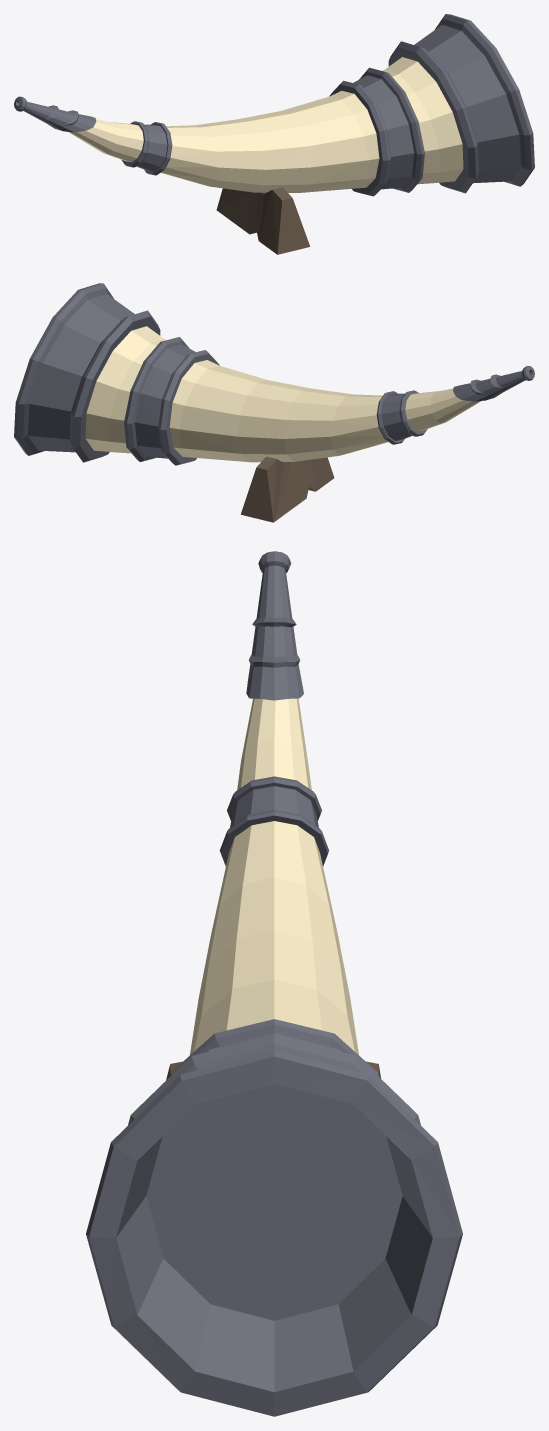
Rendered from _alarm_horn.fbx.
The picture shows the model from 3 angles, top to bottom: view 1: azimuth 30°, elevation 25°; view 2: azimuth 150°, elevation 25°; view 3: azimuth 270°, elevation 25°; orthographic projection. The views are drawn at different scales.
Parts seen in each view (by area): view 1: alarm_horn; view 2: alarm_horn; view 3: alarm_horn.
Boxes of the visible parts, x1,y1,x2,y2 form: alarm_horn: (14, 14, 534, 254); alarm_horn: (14, 283, 534, 522); alarm_horn: (86, 551, 462, 1416).
Bounding box in the file's own units: 572 × 224 × 192.
